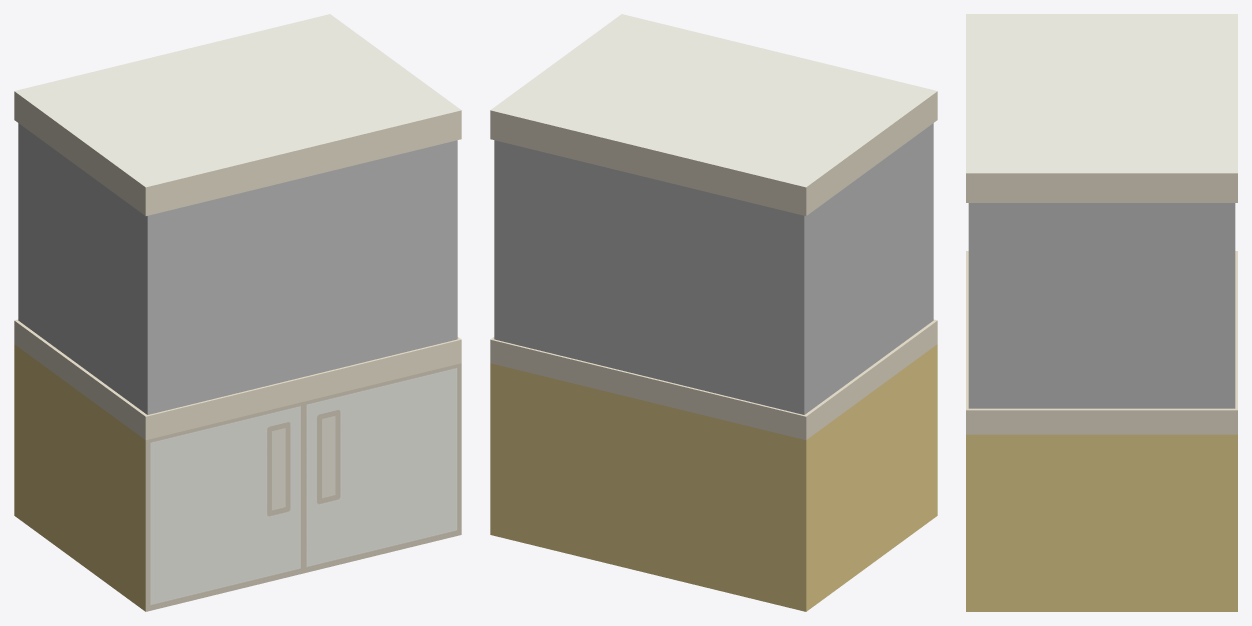
Rendered from Office_Fishtank.FBX.
The picture shows the model from 3 angles, left to right: view 1: azimuth 30°, elevation 25°; view 2: azimuth 150°, elevation 25°; view 3: azimuth 270°, elevation 25°; orthographic projection. The views are drawn at different scales.
Visible parts, largest first — view 1: Plane030, Sphere003; view 2: Plane030, Sphere003; view 3: Plane030, Sphere003.
Part boxes in pixels (x1,y1,x2,y2): Plane030: (14,14,461,611); Sphere003: (18,123,457,414); Plane030: (490,14,937,611); Sphere003: (494,123,933,414); Plane030: (966,14,1237,611); Sphere003: (968,203,1235,408).
Size of the model in its own units: 33.46 by 24.14 by 42.96.
